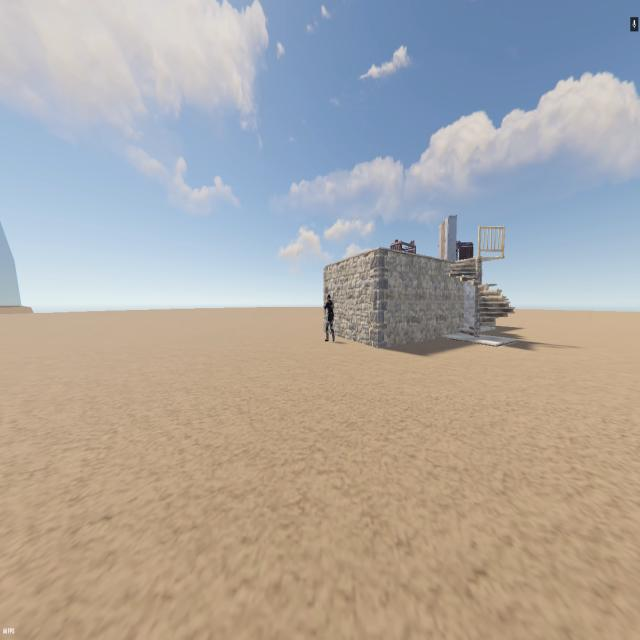Player: (324, 292, 336, 344)
